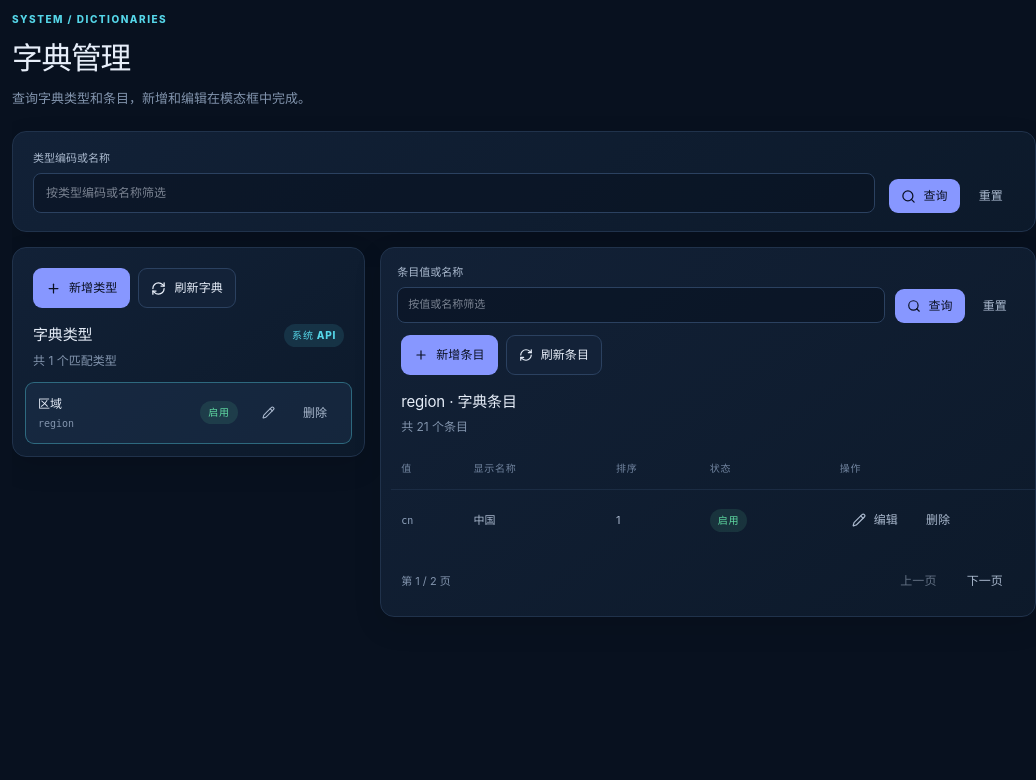
Test: DictionariesPage › 按服务端总数翻页并将字典条目页码写入 URL
Expected: the text "中国" is shown, [463,490,606,550]
Expected: the text "第 1 / 2 页" is shown, [401,573,451,589]
Click the button "下一页" at (985,581), box [955,564,1015,598]
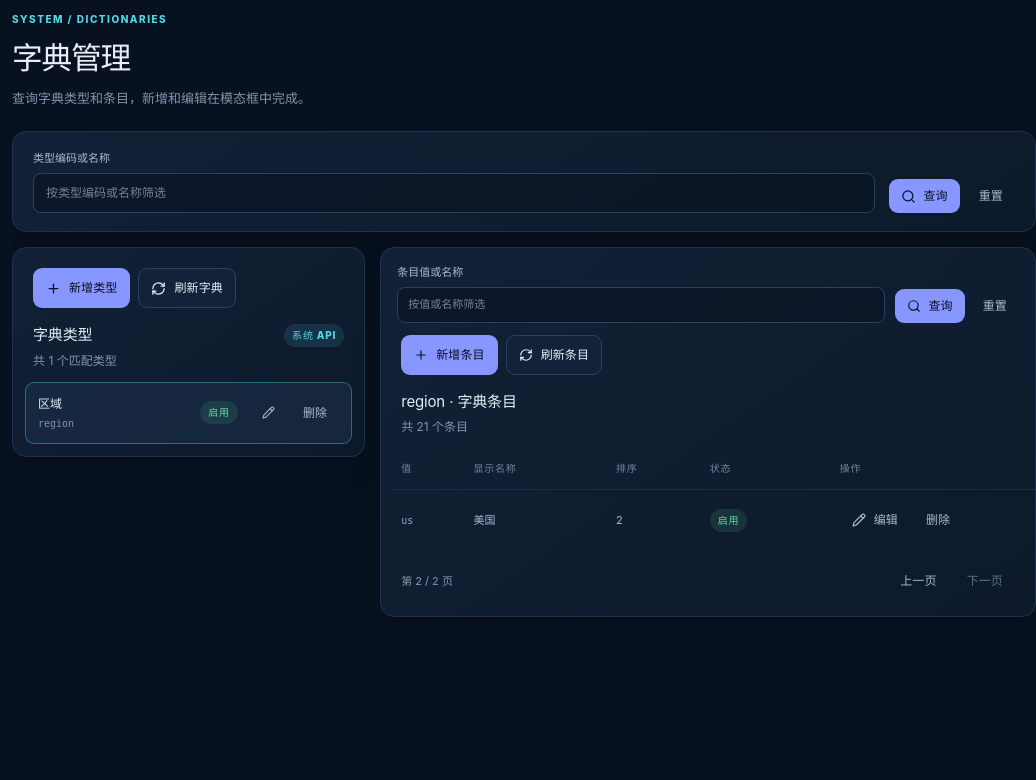
Result: the text "美国" is shown at [463,490,606,550]
